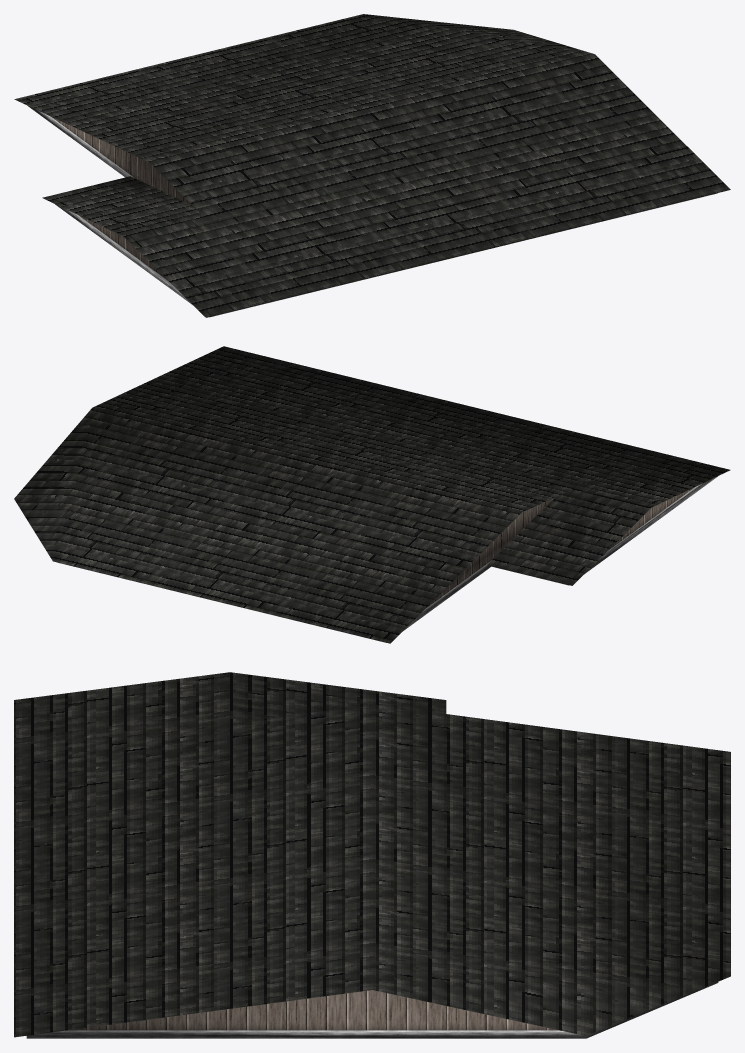
The model's file is roof13.obj.
3 views of the same model, one above another, from view 1: azimuth 30°, elevation 25°; view 2: azimuth 150°, elevation 25°; view 3: azimuth 270°, elevation 25° (orthographic). The views are drawn at different scales.
Parts seen in each view (by area): view 1: top13, PRLD07B.003; view 2: top13, PRLD07B.003; view 3: top13, PRLD07B.003.
Part boxes in pixels (bbox=[...]): top13: bbox=[14, 14, 730, 317]; PRLD07B.003: bbox=[27, 105, 717, 317]; top13: bbox=[14, 346, 730, 643]; PRLD07B.003: bbox=[58, 476, 717, 642]; top13: bbox=[14, 672, 730, 1037]; PRLD07B.003: bbox=[26, 982, 718, 1038].
Bounding box in the file's own units: 628 × 47 × 564.
